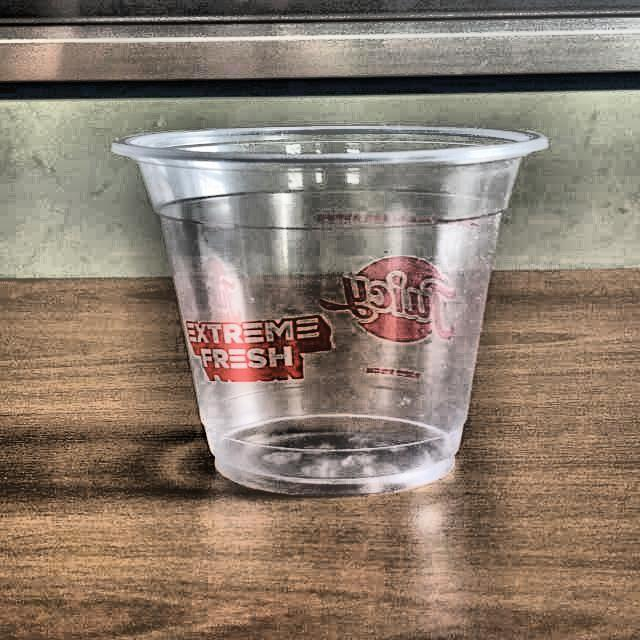plastic cup: (110, 124, 558, 498)
